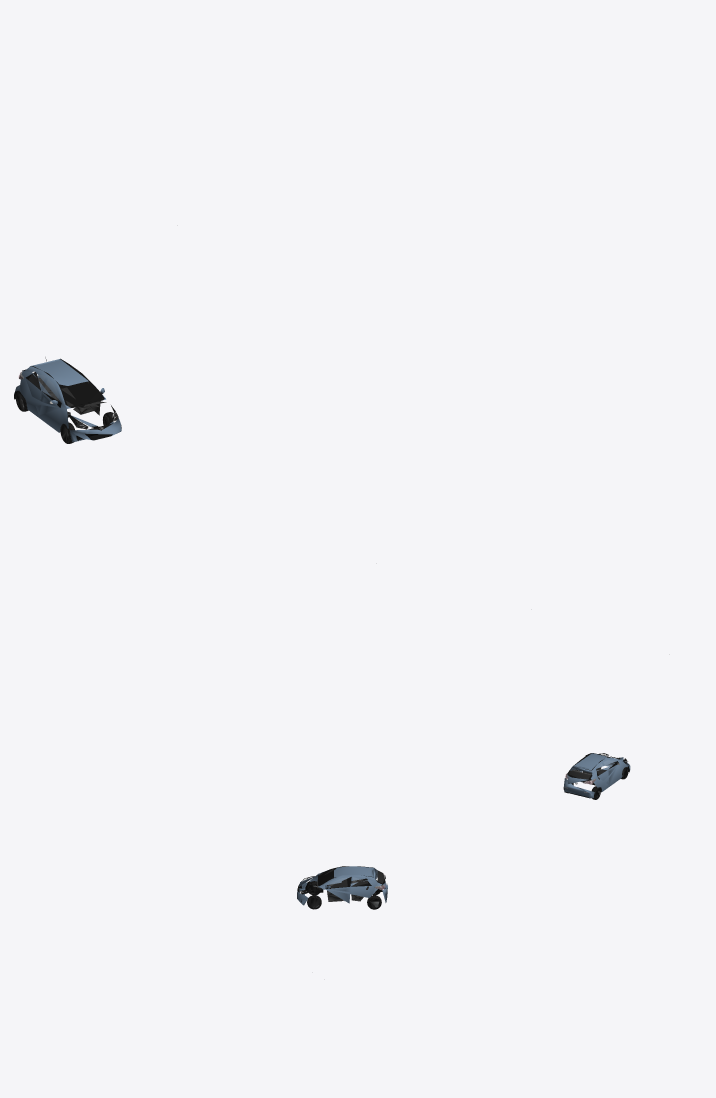
The model's file is hyundai-hb20.optimized.glb.
3 renders of one model, top to bottom at view 1: azimuth 30°, elevation 25°; view 2: azimuth 150°, elevation 25°; view 3: azimuth 270°, elevation 25°, orthographic. The views are drawn at different scales.
Parts seen in each view (by area): view 1: Object_2; view 2: Object_2; view 3: Object_2.
Boxes of the visible parts, x1,y1,x2,y2 form: Object_2: (14, 357, 121, 443); Object_2: (563, 753, 630, 799); Object_2: (297, 866, 387, 909).
Size of the model in its own units: 26.28 by 3.27 by 29.33.
Materials: 4 (4 with a texture image).
